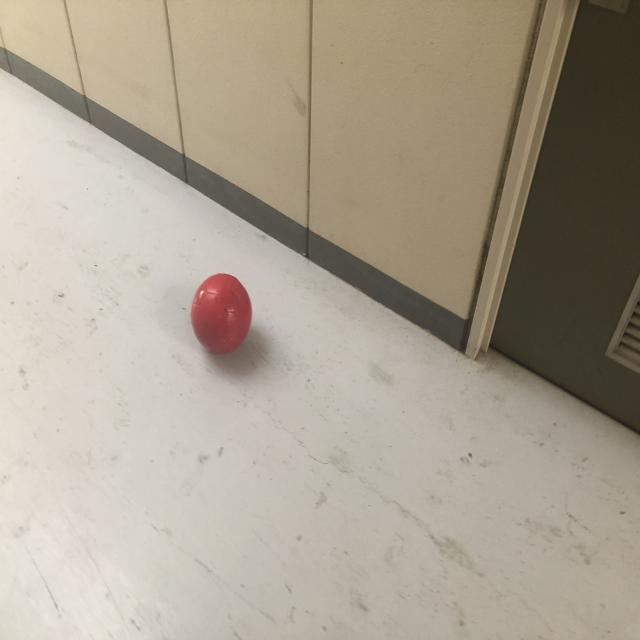red_ball: (190, 273, 251, 356)
